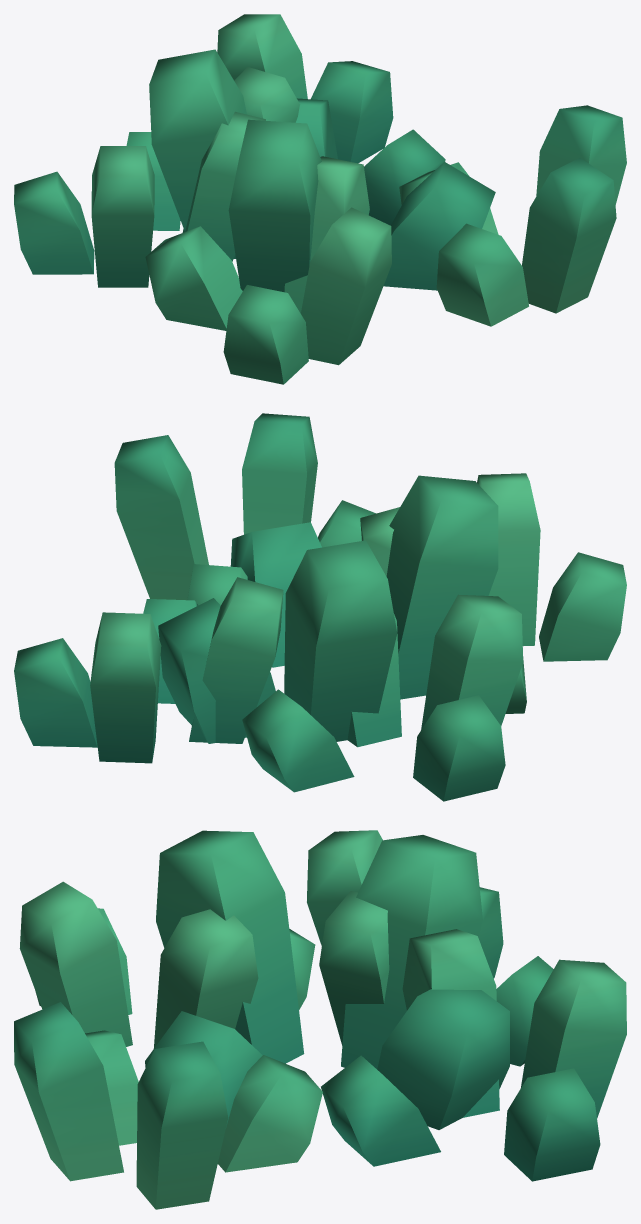
The model's file is grass-patch.glb.
The picture shows the model from 3 angles, top to bottom: view 1: azimuth 30°, elevation 25°; view 2: azimuth 150°, elevation 25°; view 3: azimuth 270°, elevation 25°; orthographic projection. The views are drawn at different scales.
Parts seen in each view (by area): view 1: grass-patch; view 2: grass-patch; view 3: grass-patch.
Part boxes in pixels (bbox=[...]): grass-patch: bbox=[14, 14, 626, 384]; grass-patch: bbox=[14, 413, 626, 801]; grass-patch: bbox=[14, 830, 626, 1209].
Size of the model in its own units: 1.31 by 0.4709 by 1.27.
Materials: 1 (1 with a texture image).
